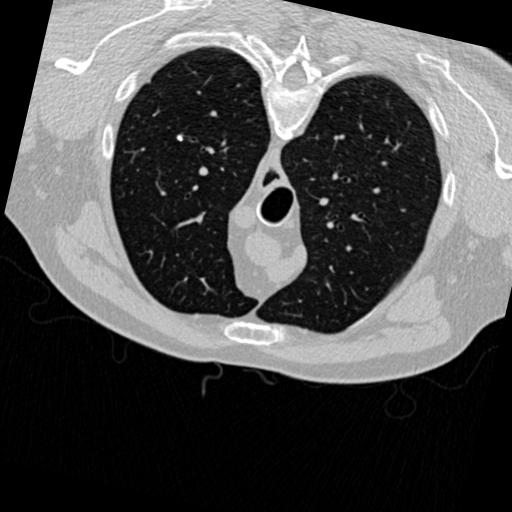nodule: (174, 132, 188, 146)
